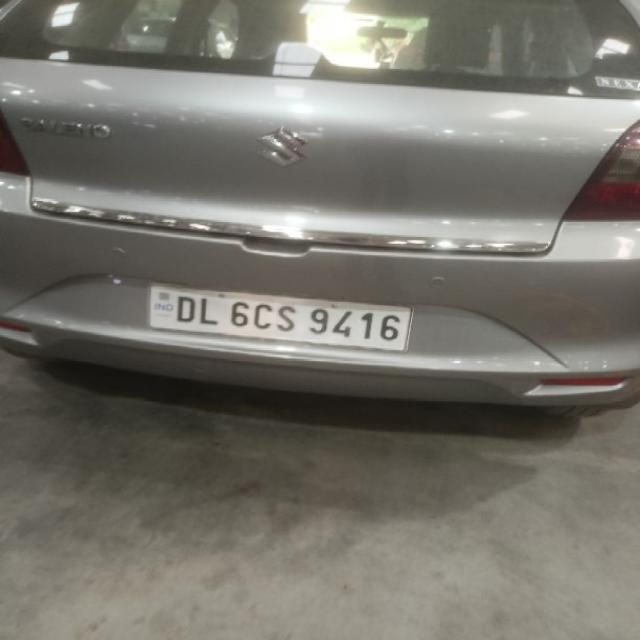license_plate: (146, 282, 413, 352)
